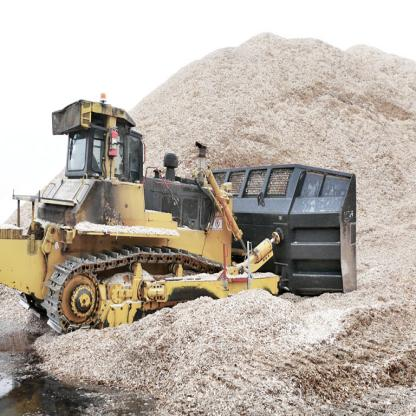bull_dozer/loader/grader: (8, 72, 372, 337)
